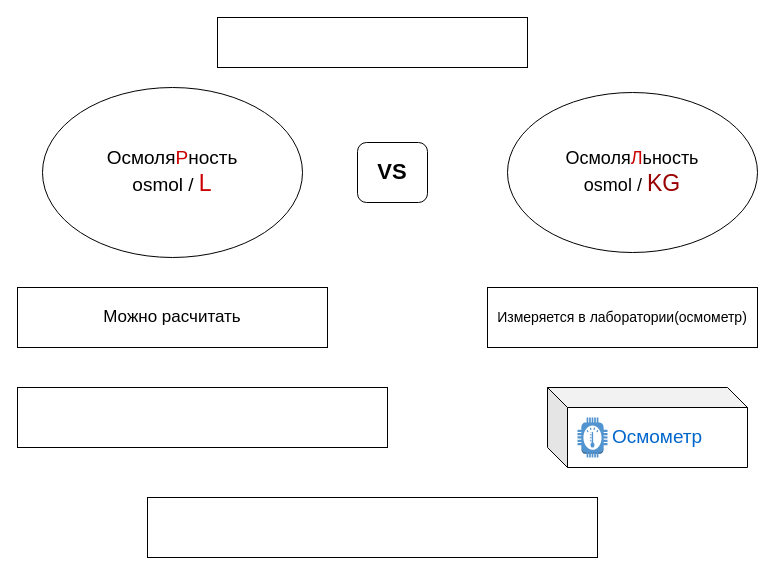
The diagram is 775 pixels wide and 575 high, and some of its shapes have lost their labels. Each missing label, with the centre of its shape:
1,86× (Na + K) + ureum + glucose (всё в mmol/L): (x=202, y=417)
85% Натрий 15% глюкоза и мочевина: (x=372, y=42)
Осмоля Р ность = Осмоля Л ность * 0.995: (x=372, y=527)
